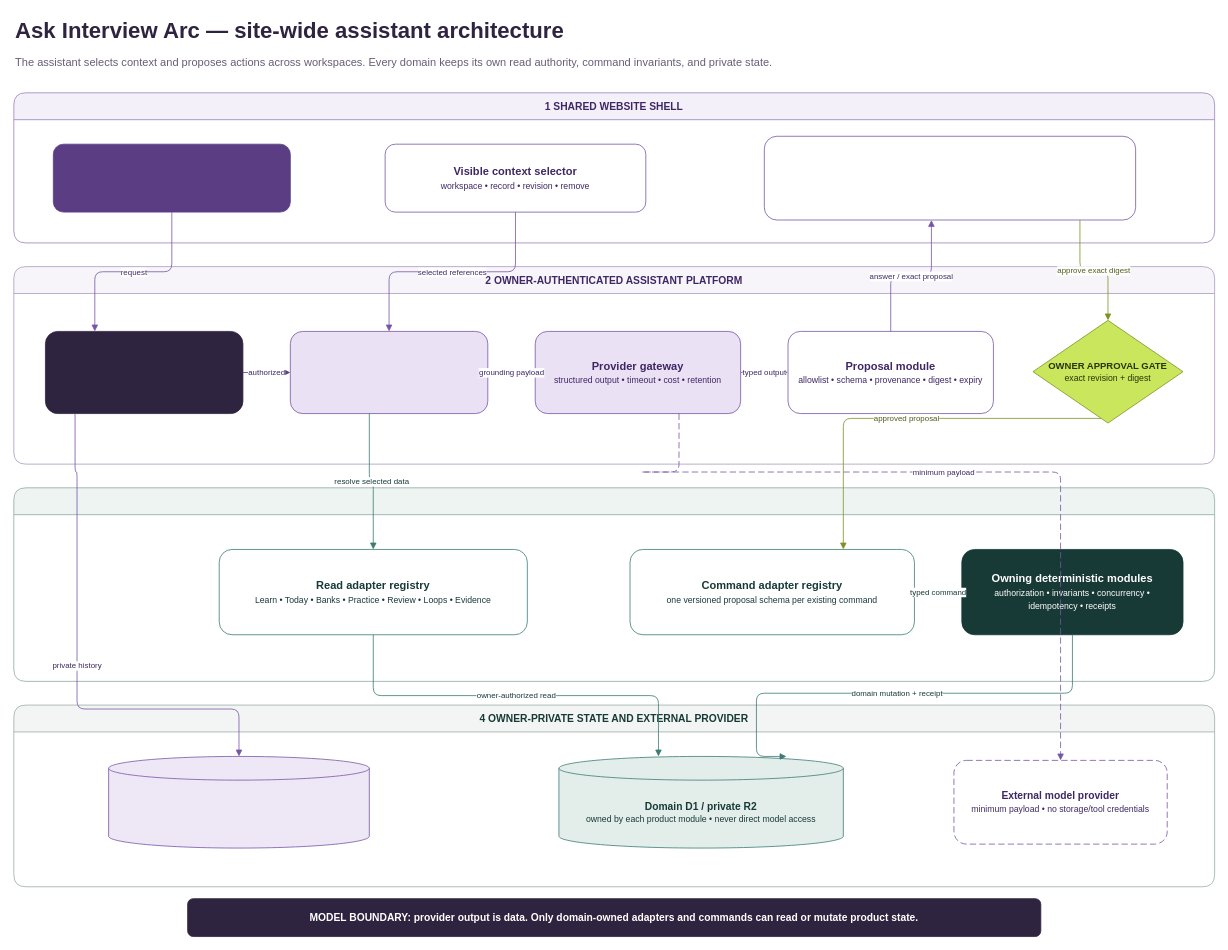
This 1228x950 diagram has some shape labels left out. The shapes that lost their labels are listed below. From the top down, each one's box as (x1, y1, x2, y2) in pixels, then its label:
(53, 143, 290, 212): Ask Interview Arc available from every workspace
(764, 135, 1136, 220): Answer / proposal review citations • unknowns • exact change • approve/reject
(45, 331, 243, 414): Access + policy owner scope • quotas • sensitivity
(290, 331, 488, 414): Context broker resolve • authorize • minimize • cite
(13, 487, 1215, 681): 3 DOMAIN-OWNED ADAPTERS AND COMMANDS
(108, 756, 369, 848): Assistant D1 conversations • context receipts • proposals • approvals
